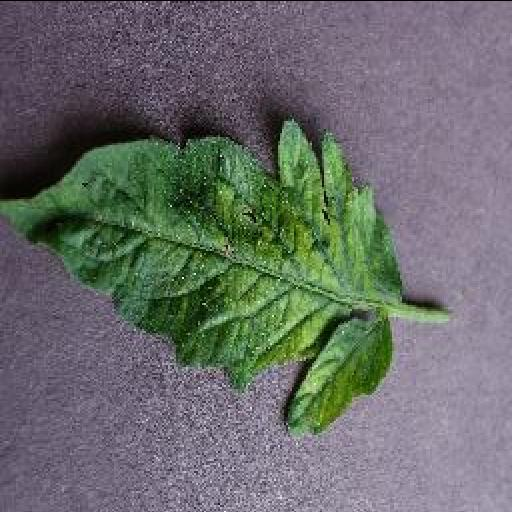Mosaic Virus: (0, 116, 404, 436)
